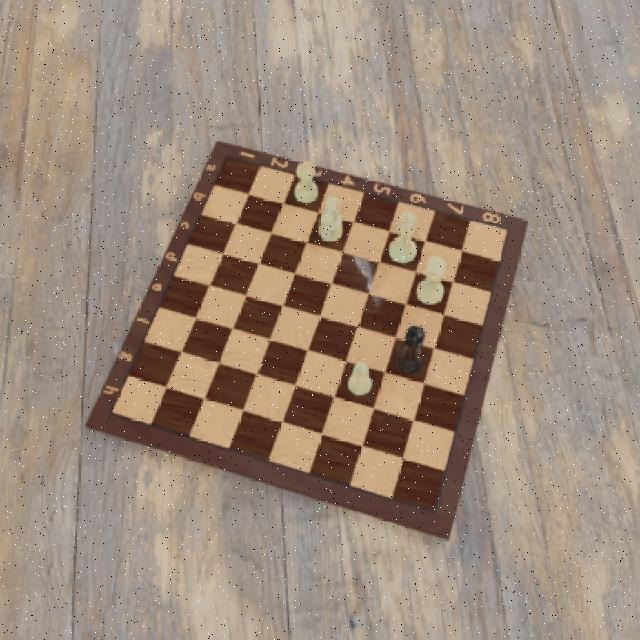black-king: (392, 324, 427, 377)
white-king: (388, 210, 420, 268)
white-knight: (316, 195, 344, 245)
white-pawn: (345, 360, 374, 399)
white-queen: (413, 255, 447, 307)
white-rook: (292, 162, 319, 206)
